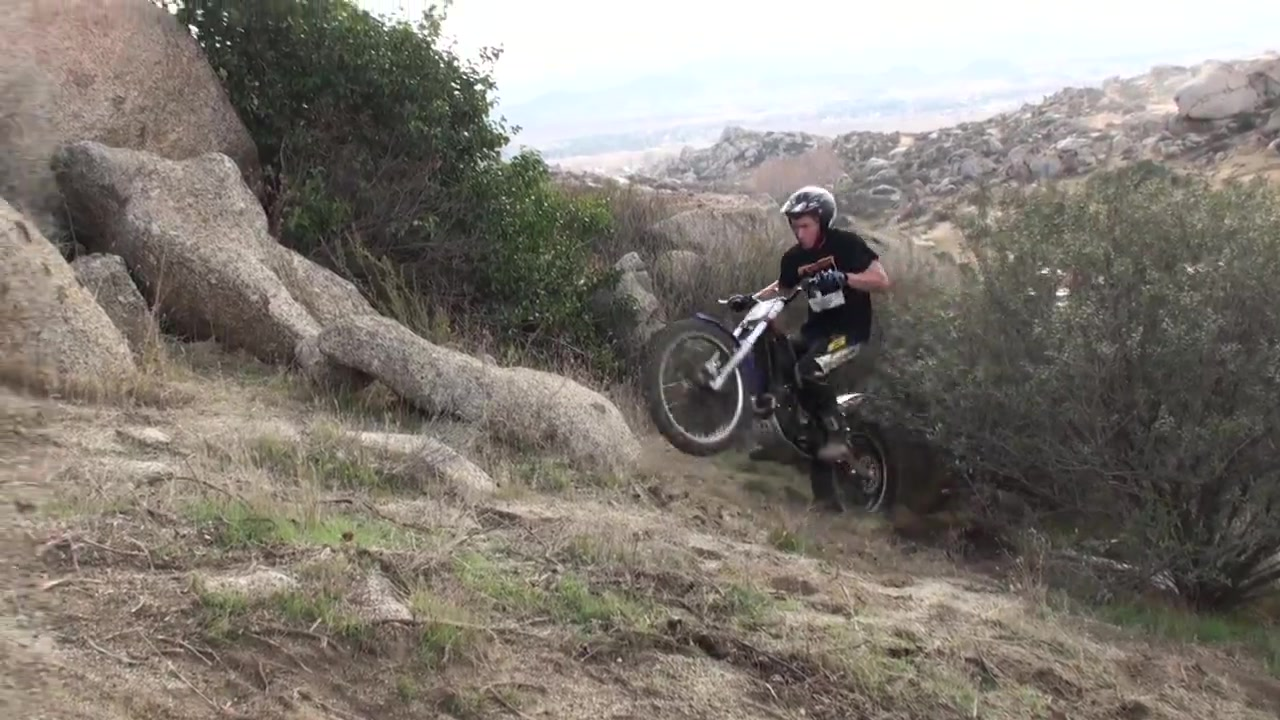motorbike: (635, 272, 898, 530)
